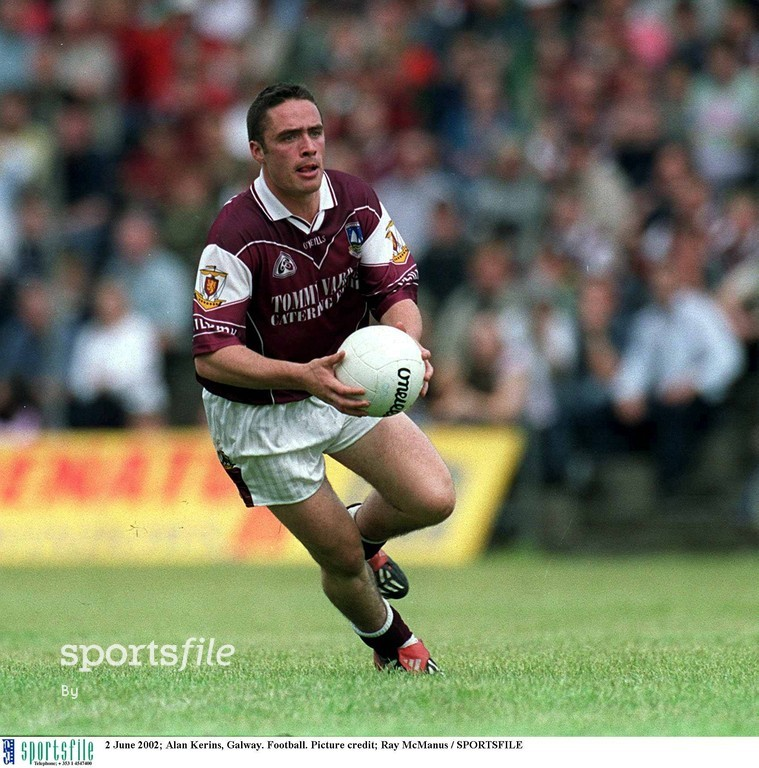ball: (332, 324, 438, 418)
player: (193, 76, 488, 633)
